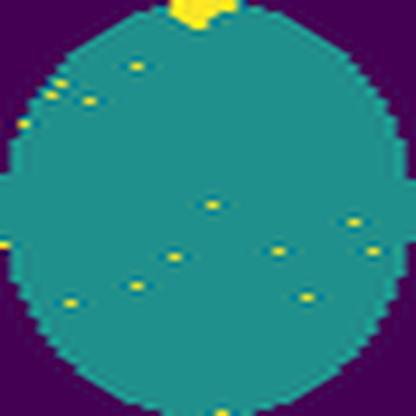Edge-Loc: (166, 0, 248, 31)
